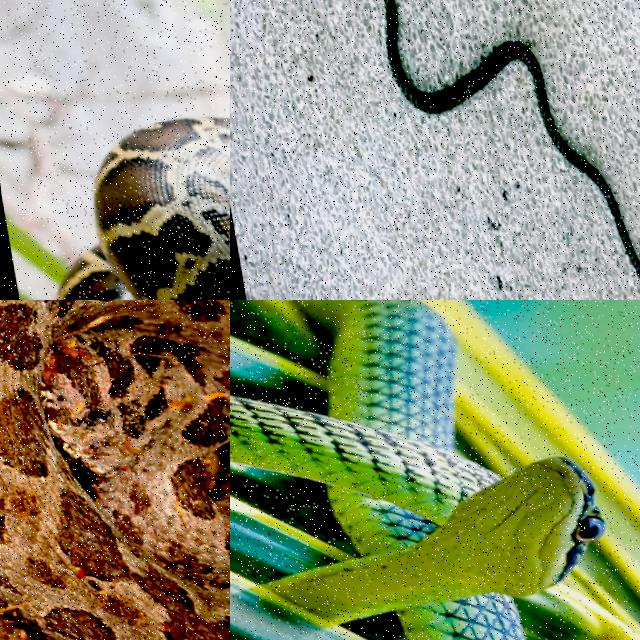Chrysopelea ornata: (230, 300, 602, 639), (383, 0, 639, 279)
Daboia siamensis: (0, 300, 229, 639)
Python bivittatus: (58, 119, 229, 299)
